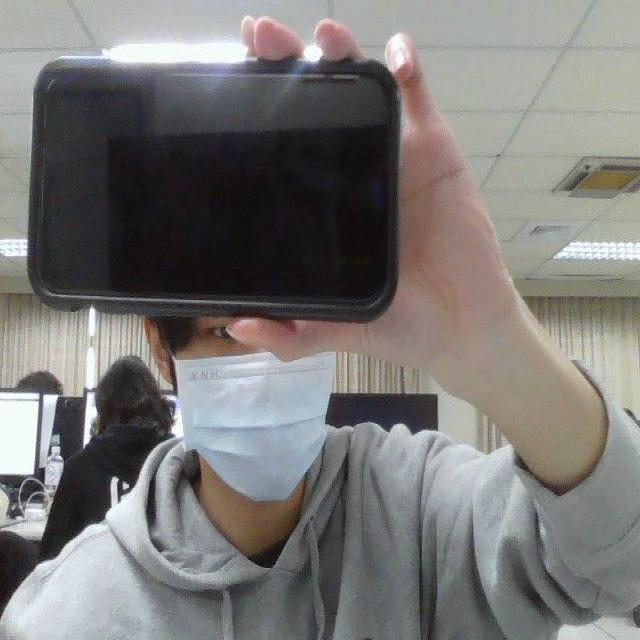ph: (4, 42, 434, 354)
